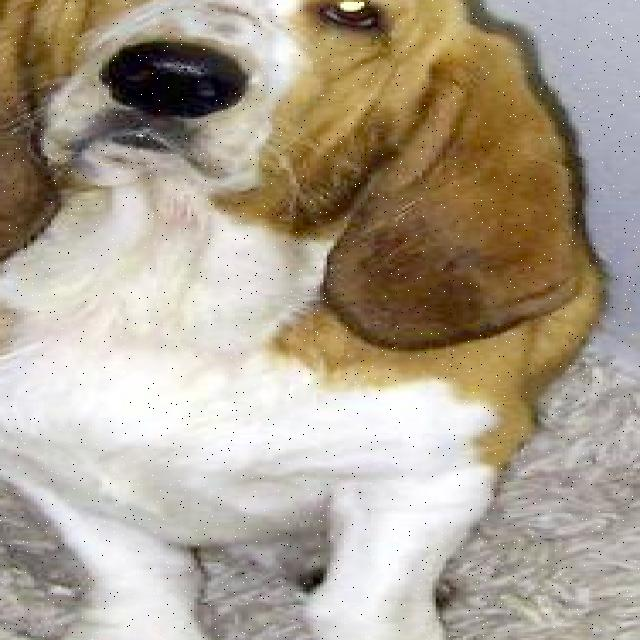Dog: (0, 0, 610, 365)
